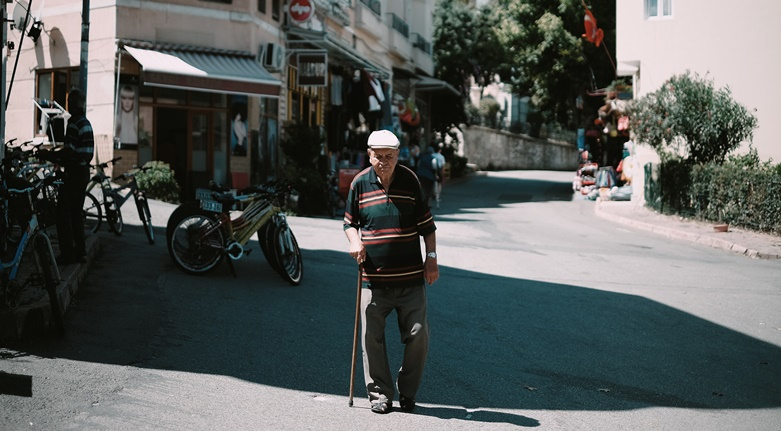bike: (164, 182, 315, 286), (107, 164, 163, 247)
person: (338, 128, 437, 417), (35, 89, 102, 266)
